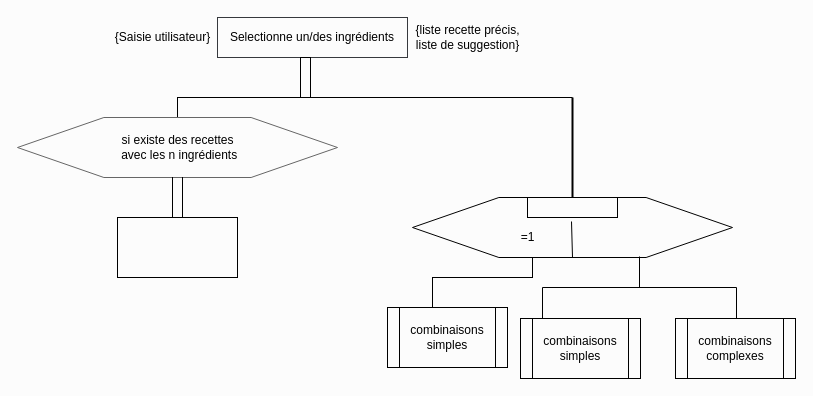
Image size: 813x396. Some labels were removed from this diagram. The box of each missing label's shape, as (x1, y1, x2, y2) in pixels:
Affiche les recettes: (116, 216, 238, 278)
nb ingrédients: (526, 196, 618, 218)
Sinon: (542, 256, 736, 318)
